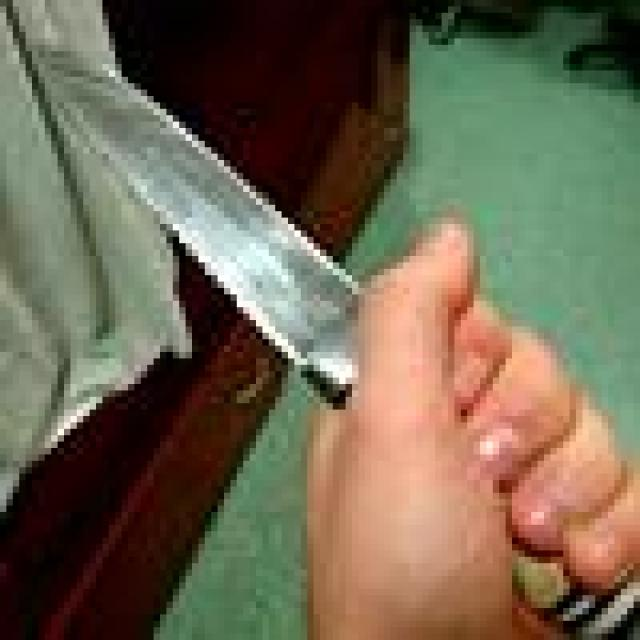knife: (37, 63, 347, 399)
